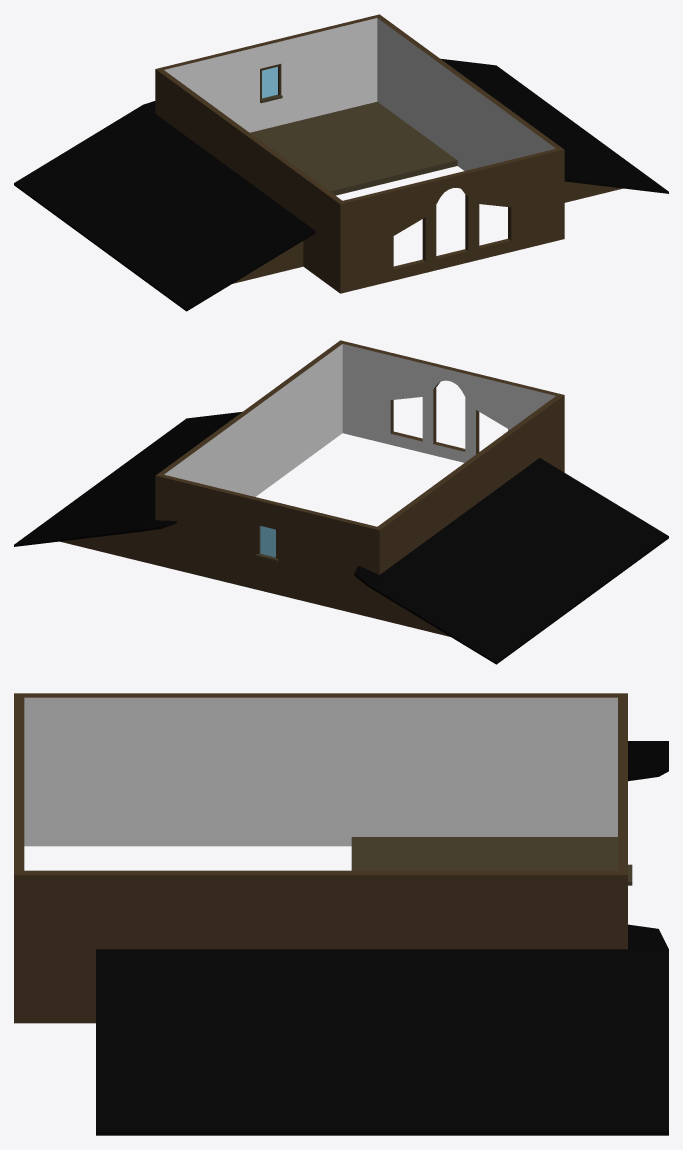
Rendered from second_floor.glb.
3 views of the same model, one above another, from view 1: azimuth 30°, elevation 25°; view 2: azimuth 150°, elevation 25°; view 3: azimuth 270°, elevation 25° (orthographic). The views are drawn at different scales.
Visible parts, largest first — view 1: Walls.002, Roof.001, Floor.002, Roof.002, Window.007; view 2: Walls.002, Roof.001, Roof.002, Window.007; view 3: Walls.002, Roof.002, Floor.002, Roof.001.
Part boxes in pixels (x1,y1,x2,y2): Walls.002: (155,14,564,293); Roof.001: (14,101,315,311); Floor.002: (250,101,457,195); Roof.002: (440,58,668,202); Window.007: (260,64,282,103); Walls.002: (155,340,564,619); Roof.001: (354,458,668,664); Roof.002: (14,411,242,564); Window.007: (255,523,278,562); Walls.002: (14,693,627,1023); Roof.002: (96,924,668,1135); Floor.002: (351,837,617,870); Roof.001: (628,741,668,781).
Bounding box in the file's own units: 45.2 × 8.4 × 32.01.
Materials: 5 (5 with a texture image).
